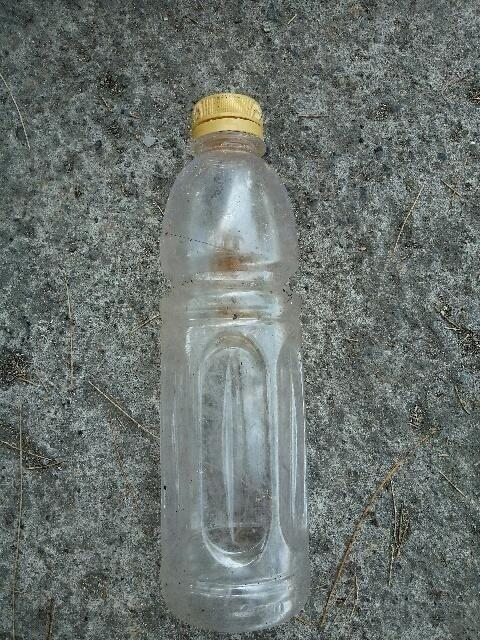bottle-plastic: (153, 88, 319, 639)
